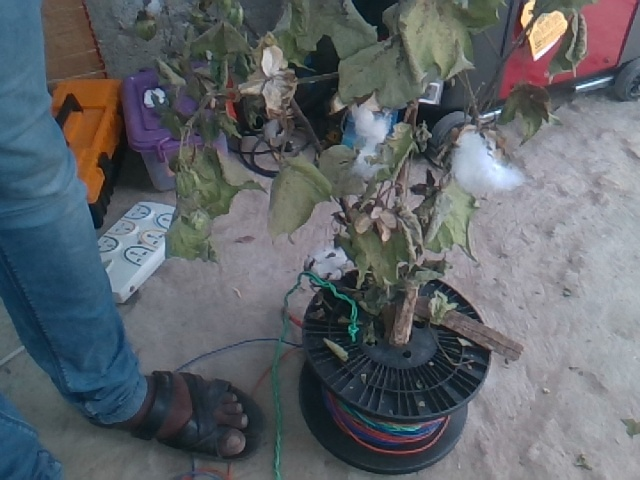cotton: (453, 128, 518, 189)
